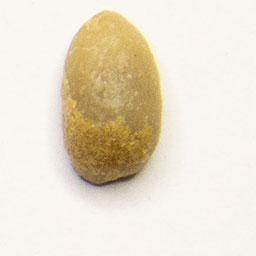longberry: (56, 6, 166, 191)
